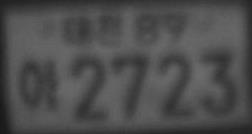2: (70, 55, 108, 122), (158, 52, 194, 116)
3: (200, 51, 237, 117)
7: (111, 53, 150, 116)
8: (133, 12, 159, 45)
9: (163, 10, 188, 44)
대전_H: (62, 13, 121, 47)
아: (18, 59, 59, 111)
